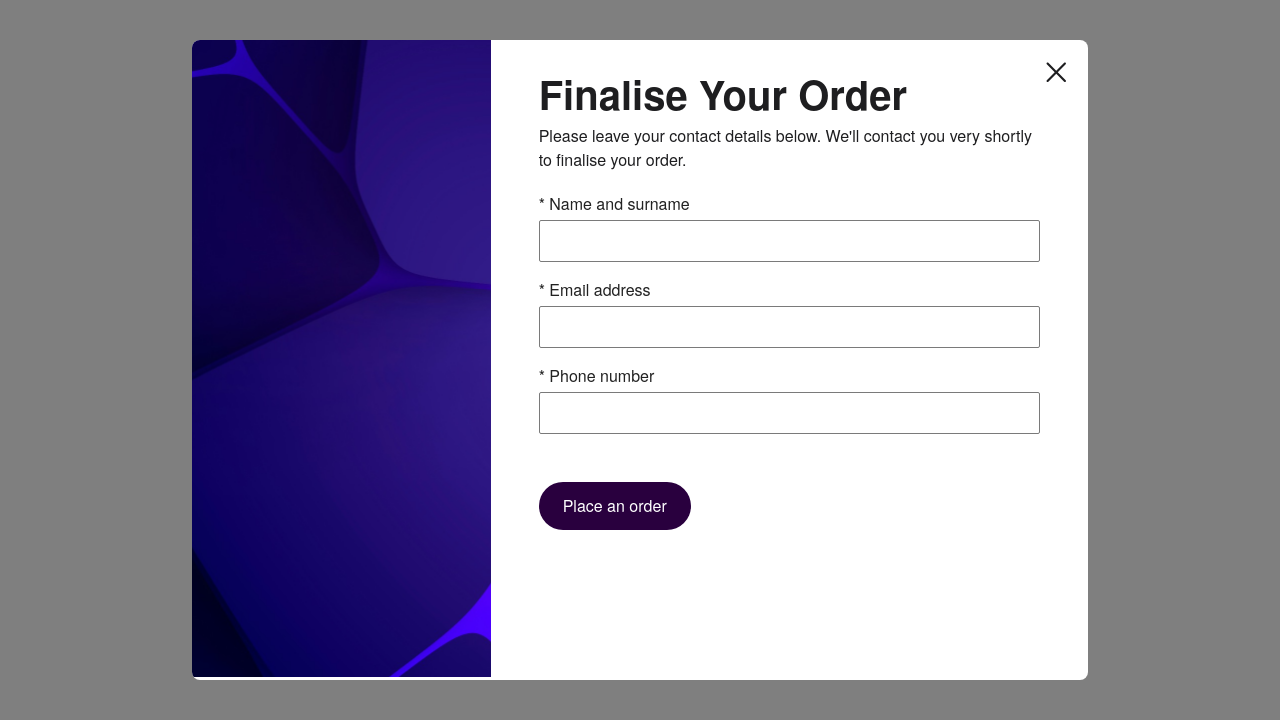
it: OrderForm › displays error messages for invalid inputs
Click the button "Place an order" at (615, 506), box [539,482,691,530]
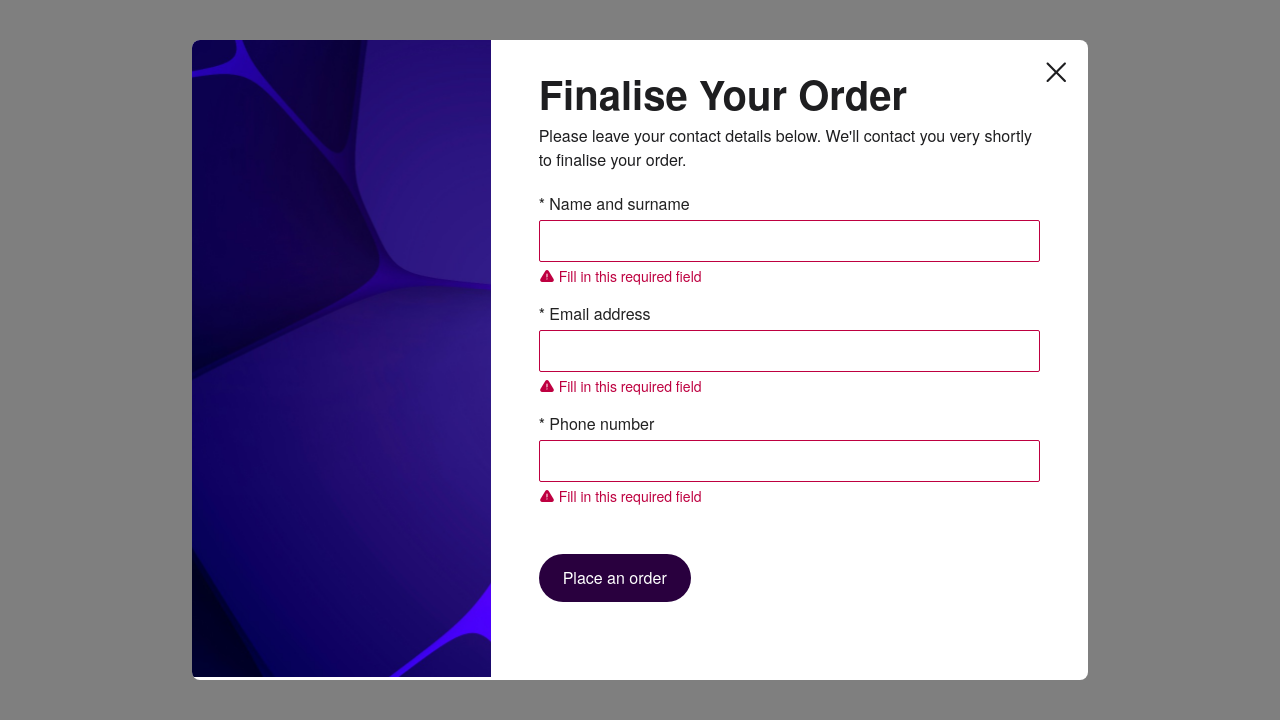
Result: the text "Fill in this required field" is shown 3 times at [559,266,702,286]; [559,376,702,396]; [559,486,702,506]
